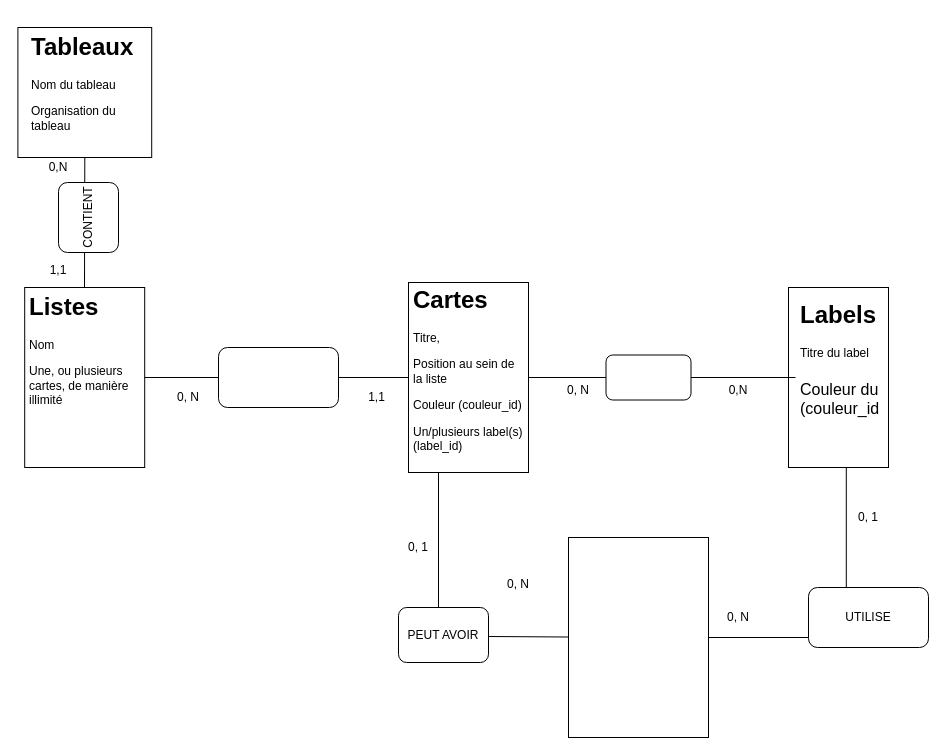
This 946x755 diagram has some shape labels left out. Each missing label, with the box of its shape:
APPARTENIR: (218, 346, 338, 408)
CORRESPOND: (605, 354, 691, 400)
Couleur Titre de la couleur RGB de la couleur: (568, 536, 708, 738)
